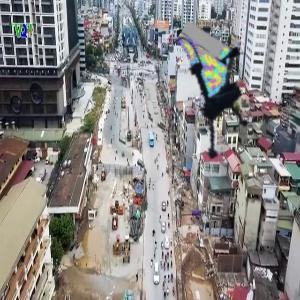drone: (148, 38, 283, 173)
